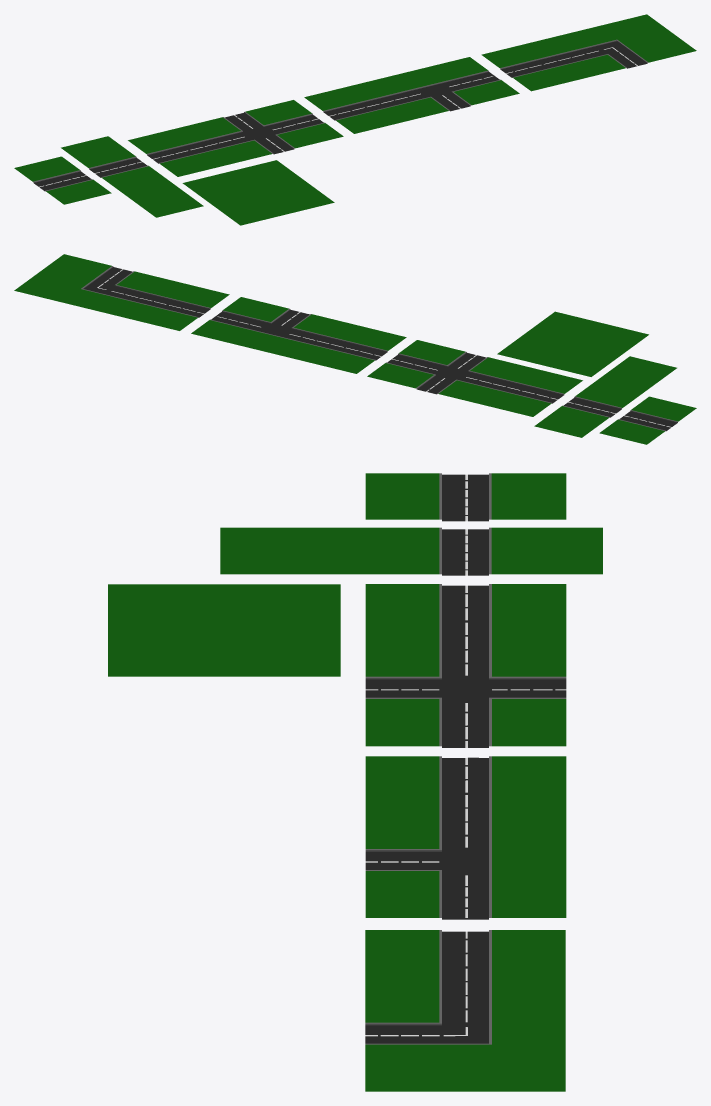
File: Caminos_modificados.fbx
3 renders of one model, top to bottom at view 1: azimuth 30°, elevation 25°; view 2: azimuth 150°, elevation 25°; view 3: azimuth 270°, elevation 25°, orthographic. The views are drawn at different scales.
Parts seen in each view (by area): view 1: Camino Cruz, Camino T, Camino L, Pasto, Camino recto (ancho) 2, Camino recto; view 2: Camino Cruz, Camino T, Camino L, Pasto, Camino recto (ancho) 2, Camino recto; view 3: Camino Cruz, Camino T, Camino L, Pasto, Camino recto (ancho) 2, Camino recto.
Part boxes in pixels (box(x1,y1,x2,y2)): Camino Cruz: box(128, 100, 343, 176); Camino T: box(304, 57, 519, 133); Camino L: box(481, 14, 696, 91); Pasto: box(182, 160, 334, 225); Camino recto (ancho) 2: box(61, 136, 203, 217); Camino recto: box(14, 156, 111, 204); Camino Cruz: box(367, 340, 582, 416); Camino T: box(191, 297, 406, 373); Camino L: box(14, 254, 229, 330); Pasto: box(497, 311, 648, 376); Camino recto (ancho) 2: box(534, 356, 676, 437); Camino recto: box(599, 396, 696, 444); Camino Cruz: box(365, 584, 566, 747); Camino T: box(365, 756, 566, 919); Camino L: box(365, 930, 565, 1091); Pasto: box(108, 584, 340, 676); Camino recto (ancho) 2: box(220, 527, 602, 575); Camino recto: box(365, 473, 566, 521).
Bounding box in the file's own units: 50961 × 95.21 × 17265.
